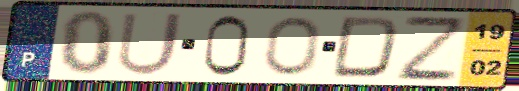0: (53, 9, 119, 77), (201, 13, 253, 78)
D: (328, 15, 404, 81)
O: (263, 15, 322, 78)
U: (113, 11, 188, 78)
Z: (395, 13, 466, 83)
